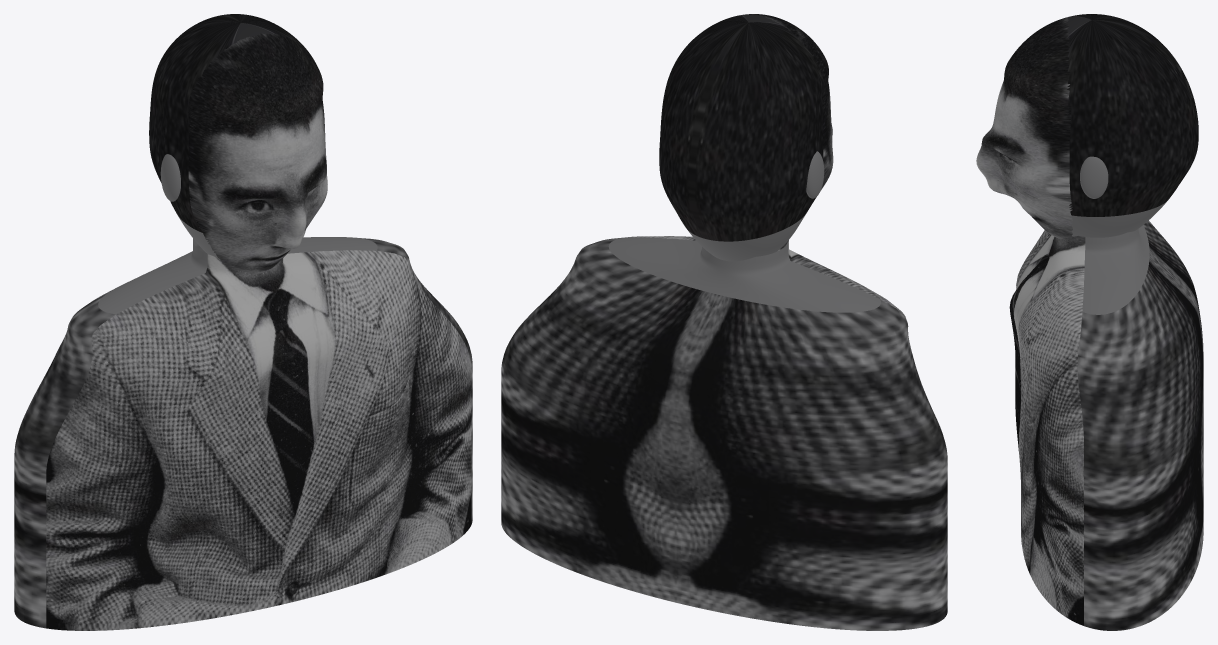
3 views of the same model, side by side, from view 1: azimuth 30°, elevation 25°; view 2: azimuth 150°, elevation 25°; view 3: azimuth 270°, elevation 25° (orthographic). The views are drawn at different scales.
Visible parts, largest first — view 1: bust; view 2: bust; view 3: bust.
Part boxes in pixels (x1=…): bust: x1=14, y1=14, x2=472, y2=630; bust: x1=501, y1=14, x2=947, y2=630; bust: x1=976, y1=14, x2=1203, y2=630.
Bounding box in the file's own units: 0.4506 × 0.5336 × 0.2175.
Materials: 1 (1 with a texture image).
